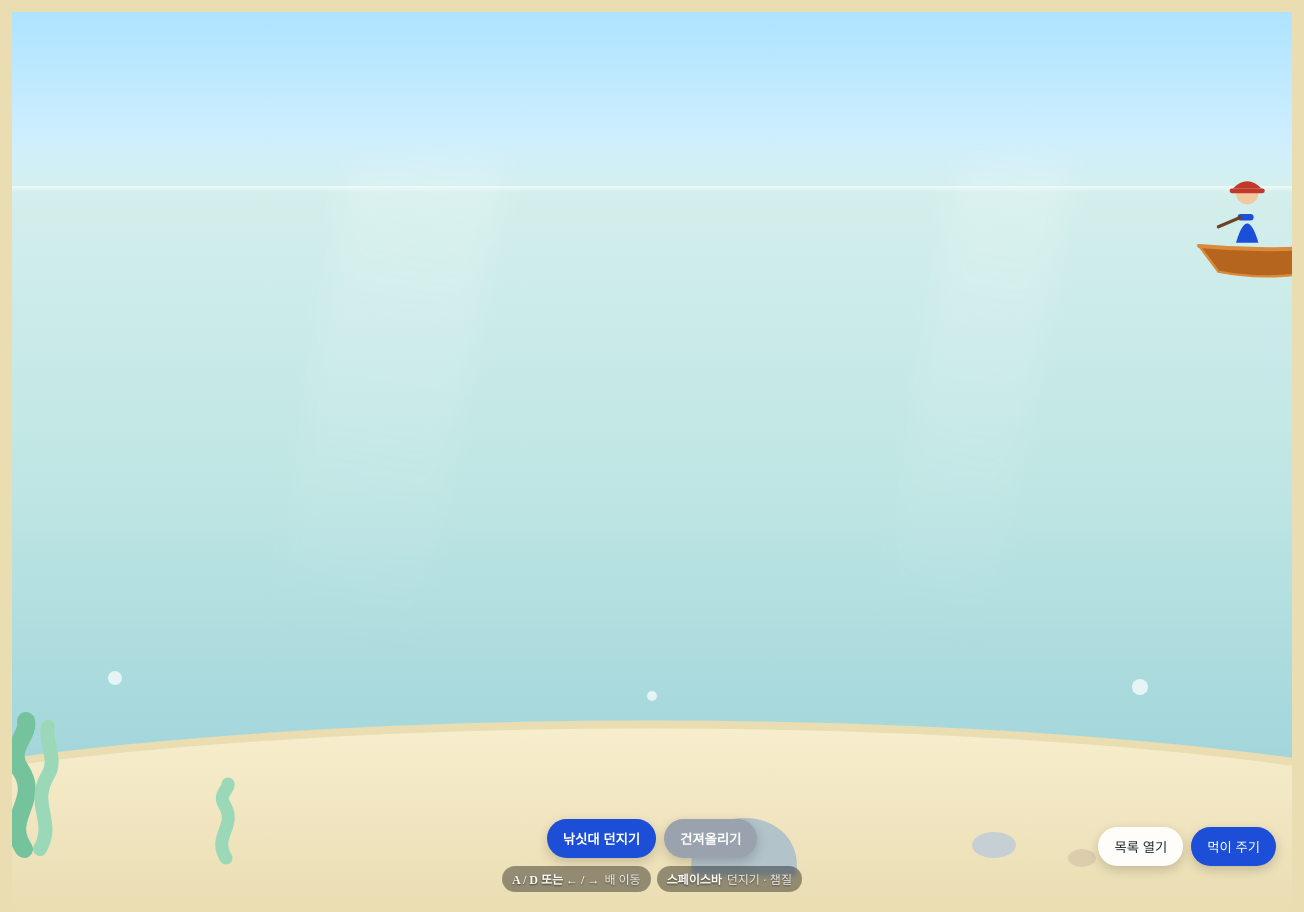
Test: FishTank 낚시 미니게임 (SPEC-CATCH-001) › 이미 수집한 물고기(alreadyCollected)면 '이미 수집함에 있어요'로 안내한다 (REQ-CATCH-005)
Click the button "낚싯대 던지기" at (601, 838), box [547, 819, 656, 858]
Wait 1600 ms
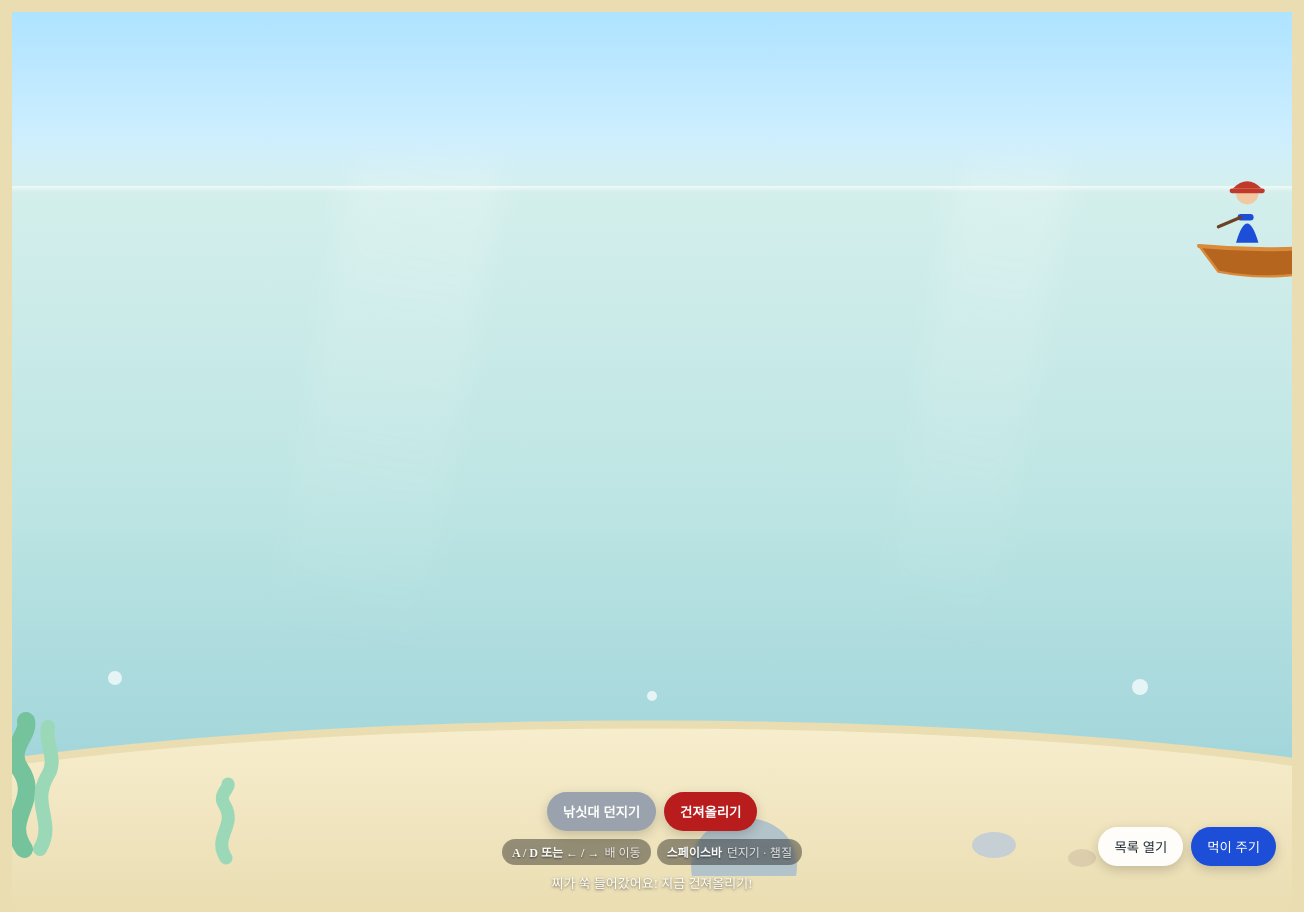
Click the button "건져올리기" at (711, 812), box [664, 792, 757, 831]
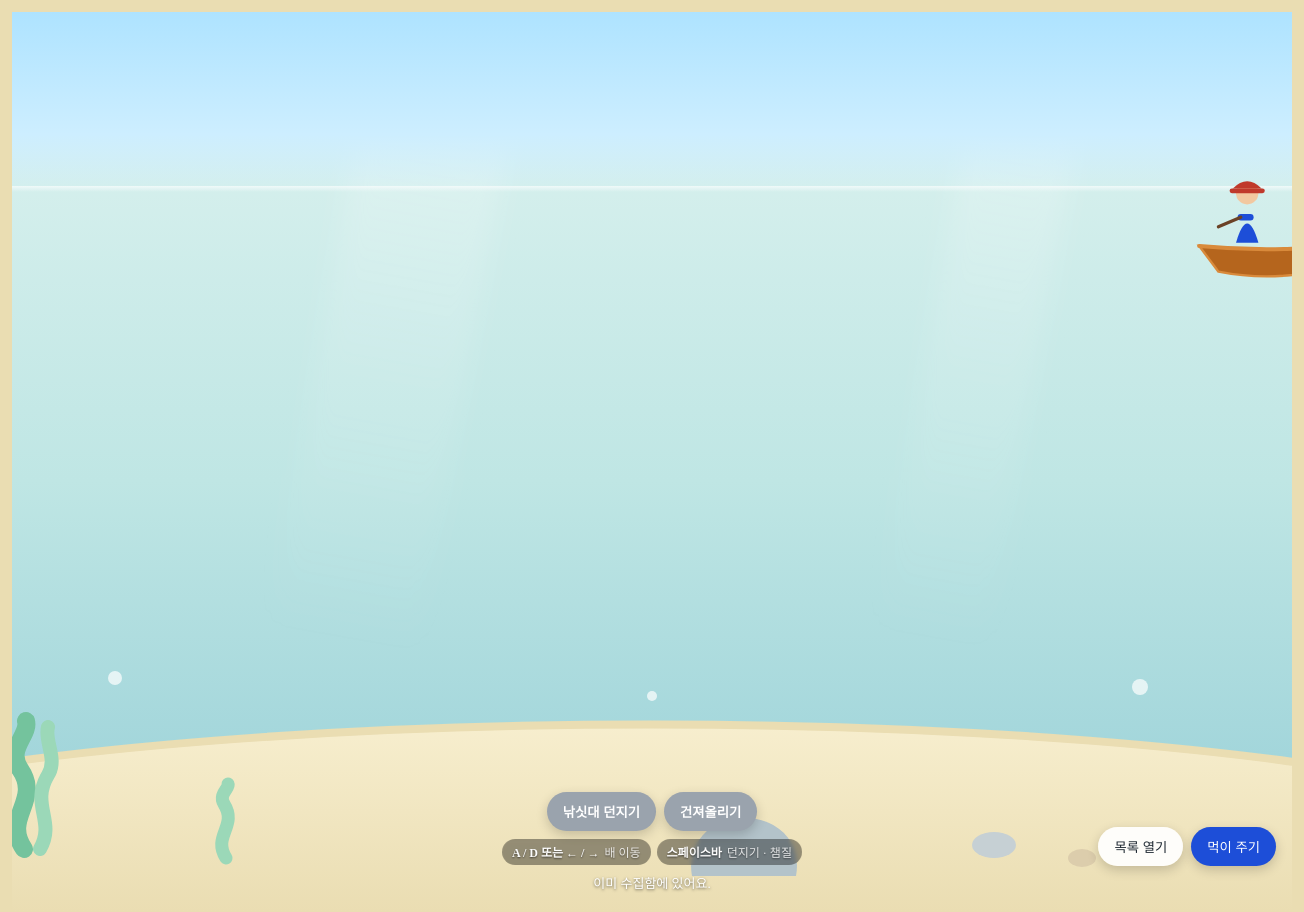
Check: the message named "낚시 안내" shows "이미 수집함에 있어요", box [593, 876, 711, 891]
